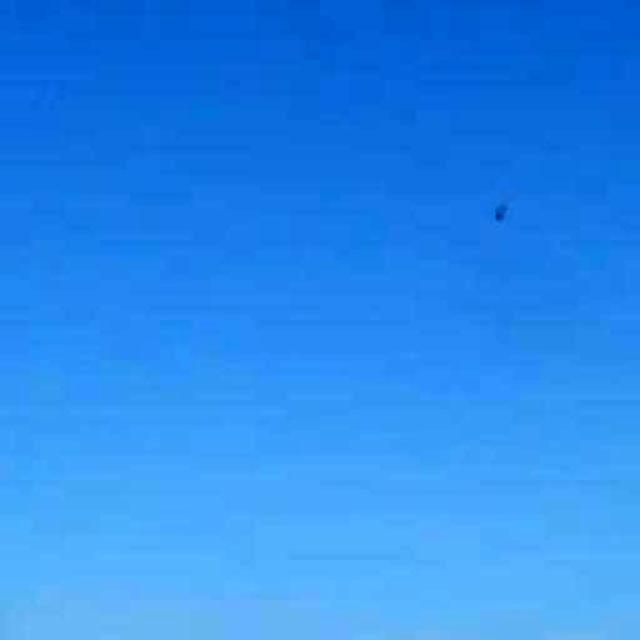drone: (466, 172, 530, 244)
